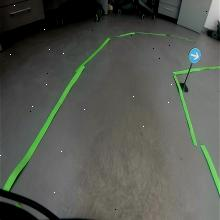right: (189, 48, 201, 64)
